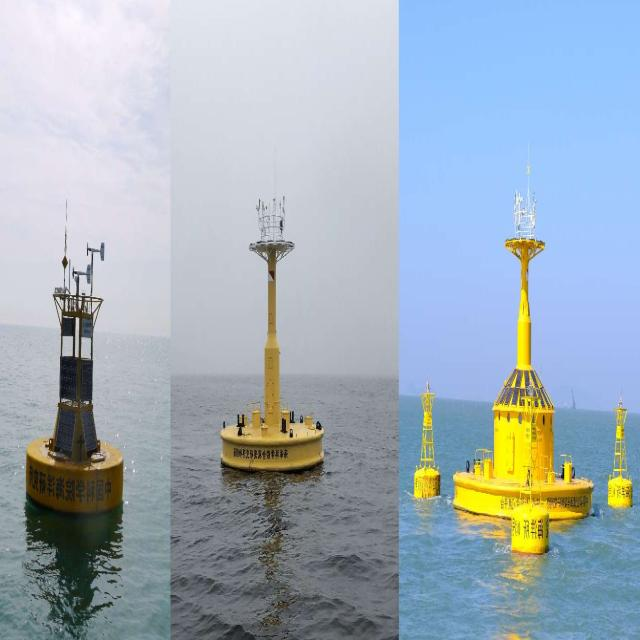buoy: (455, 178, 596, 512), (219, 182, 323, 472), (25, 228, 125, 518), (509, 387, 549, 551), (412, 379, 442, 499), (608, 386, 636, 509)
